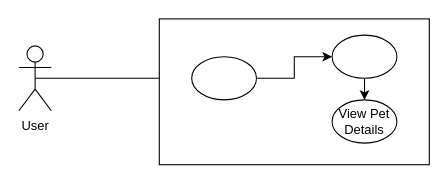
This 448x184 diagram has some shape labels left out. Here are the shapes that lost their labels. From the top down, the centre of each, then its label:
point (364, 56): View Pet Listings
point (223, 78): Filter Pets
